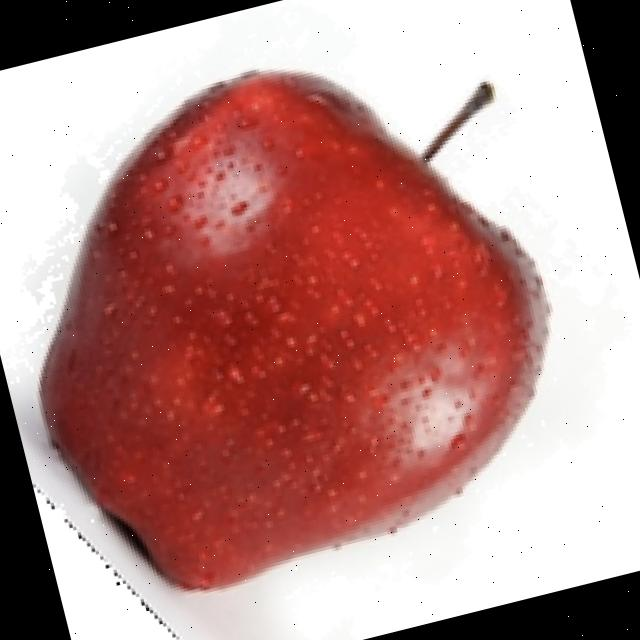apple: (2, 62, 556, 640)
